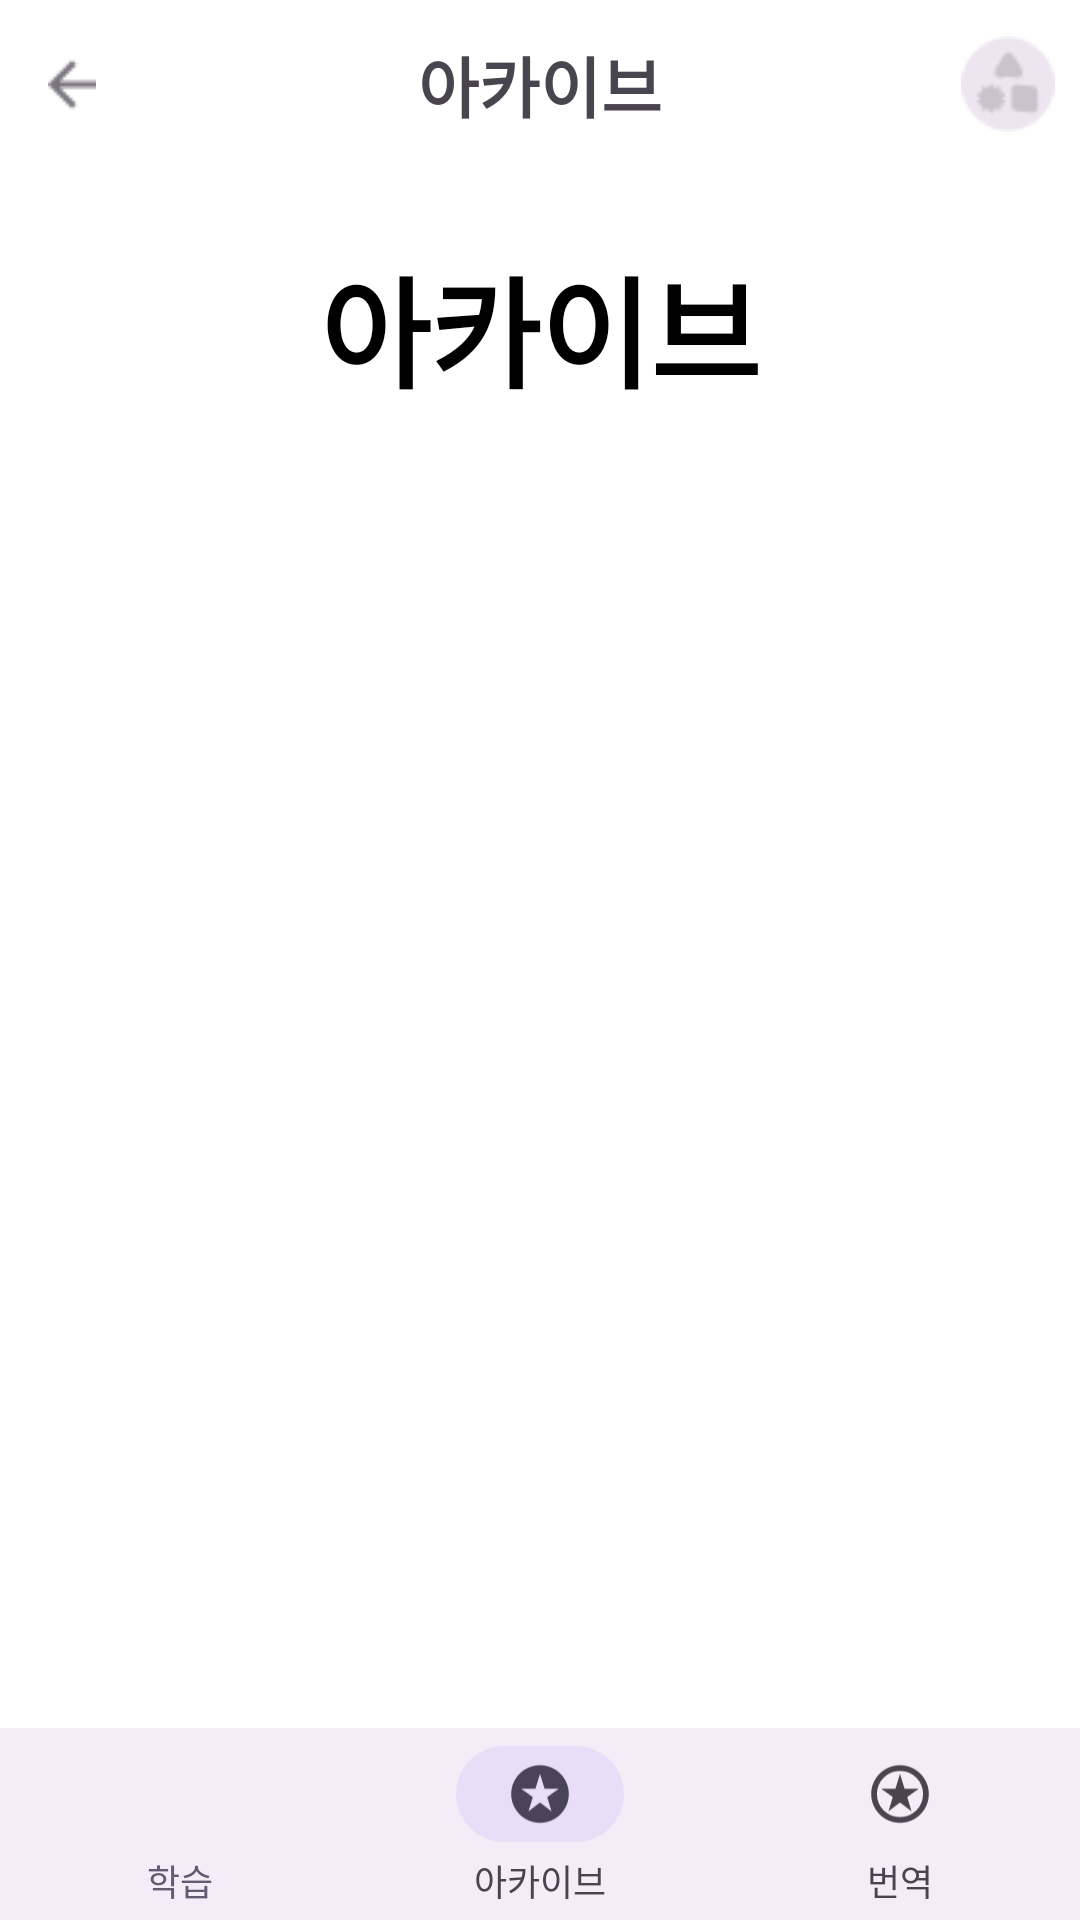

Screen size 1080x1920. Icon name, then its box in pixels as (x1, y1, x2, y2):
뒤로가기: (48, 61, 96, 108)
